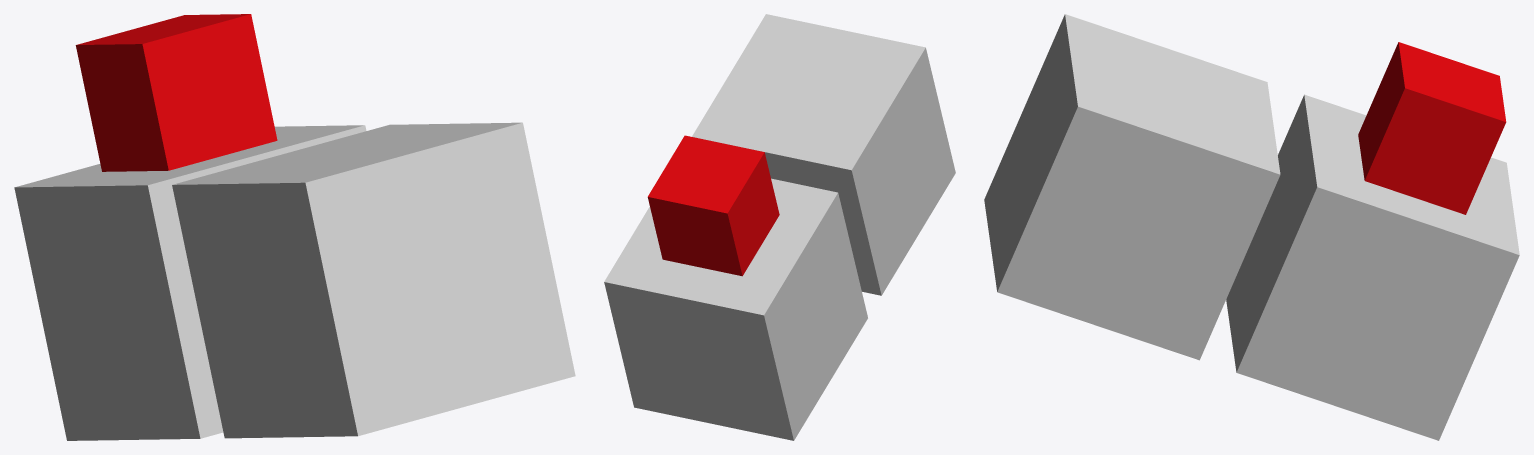
Rendered from scenetest.glb.
The picture shows the model from 3 angles, left to right: view 1: azimuth 30°, elevation 25°; view 2: azimuth 150°, elevation 25°; view 3: azimuth 270°, elevation 25°; orthographic projection. The views are drawn at different scales.
Visible parts, largest first — view 1: Cube.001, Cube; view 2: Cube, Cube.001; view 3: Cube, Cube.001.
Part boxes in pixels (<box>): Cube.001: <box>172,122,575,438</box>; Cube: <box>14,14,366,440</box>; Cube: <box>604,135,867,440</box>; Cube.001: <box>692,14,955,295</box>; Cube: <box>1226,42,1519,440</box>; Cube.001: <box>984,14,1280,360</box>.
Size of the model in its own units: 2.64 by 4.03 by 5.68.
